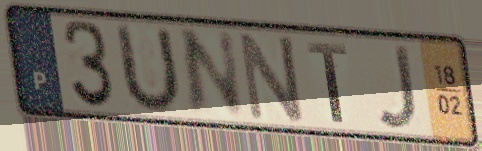3: (60, 19, 118, 112)
J: (374, 42, 421, 133)
N: (235, 28, 307, 125), (177, 27, 248, 120)
T: (304, 39, 350, 126)
U: (114, 20, 183, 116)
